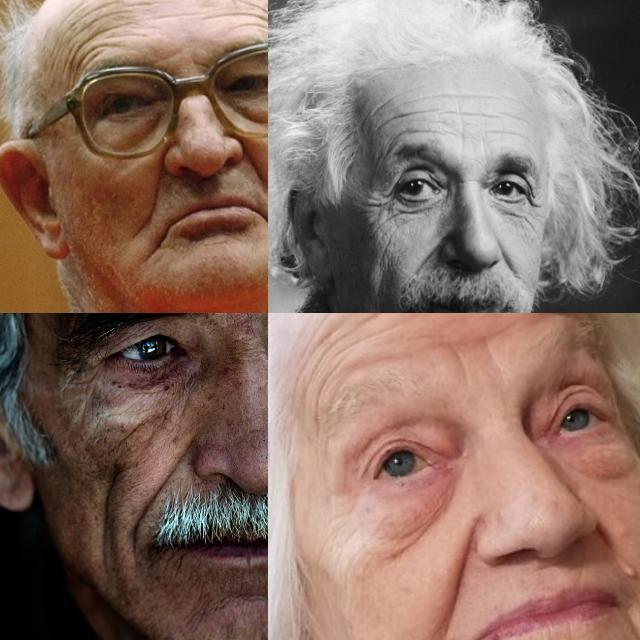chin: (186, 596, 238, 624)
crows_feet: (74, 359, 102, 397), (368, 191, 396, 221), (524, 190, 544, 220)
forehead: (294, 313, 352, 393), (64, 32, 100, 74), (215, 5, 268, 31), (89, 2, 133, 32), (428, 84, 494, 104), (377, 97, 411, 129), (390, 125, 442, 144), (488, 122, 526, 144), (442, 104, 486, 122), (453, 125, 477, 155), (499, 106, 531, 125)
frown_line: (448, 335, 506, 393)
gummy_smile: (448, 528, 489, 626), (143, 441, 185, 502), (144, 160, 166, 226), (416, 234, 442, 274), (243, 148, 267, 186), (498, 240, 518, 274)
masseter: (92, 467, 118, 573), (326, 538, 360, 610), (380, 522, 436, 564)
sad_smile: (126, 515, 148, 573), (618, 596, 640, 640), (146, 229, 170, 263), (258, 211, 268, 234)
